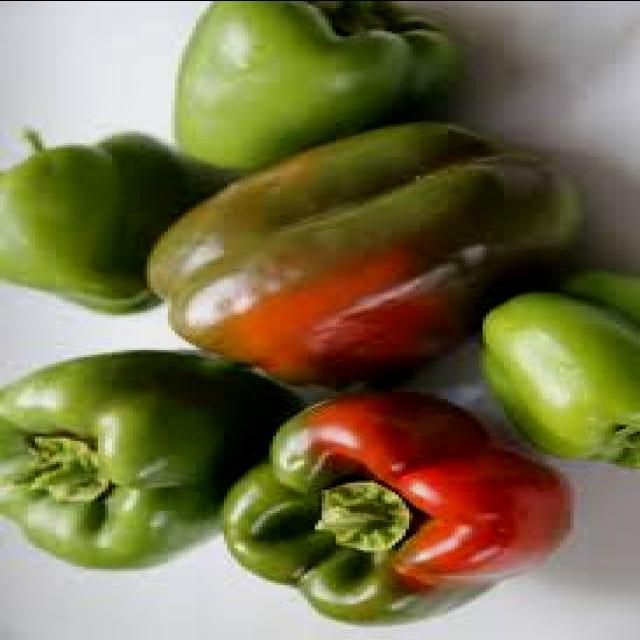bell_pepper: (133, 107, 598, 410), (200, 398, 595, 633), (1, 334, 304, 583), (154, 3, 480, 175), (1, 113, 215, 322), (469, 268, 637, 480)
